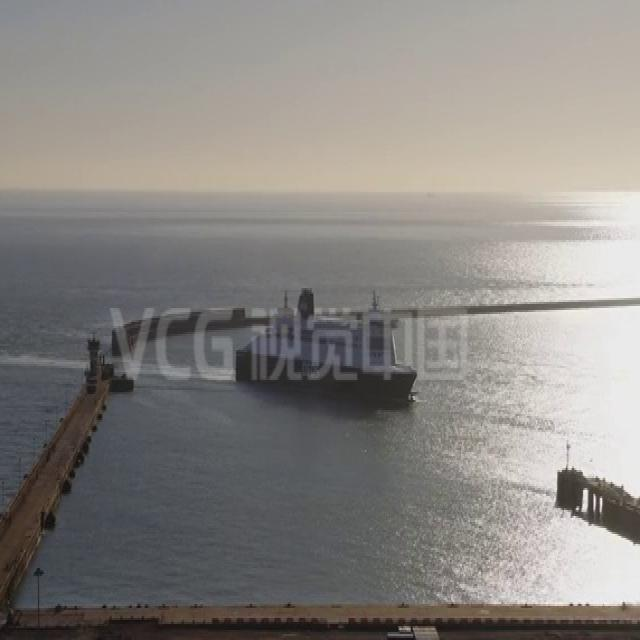passenger ship: (228, 284, 414, 404)
